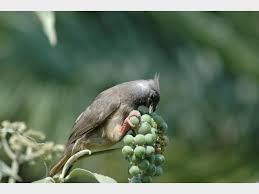target: (58, 66, 181, 168)
